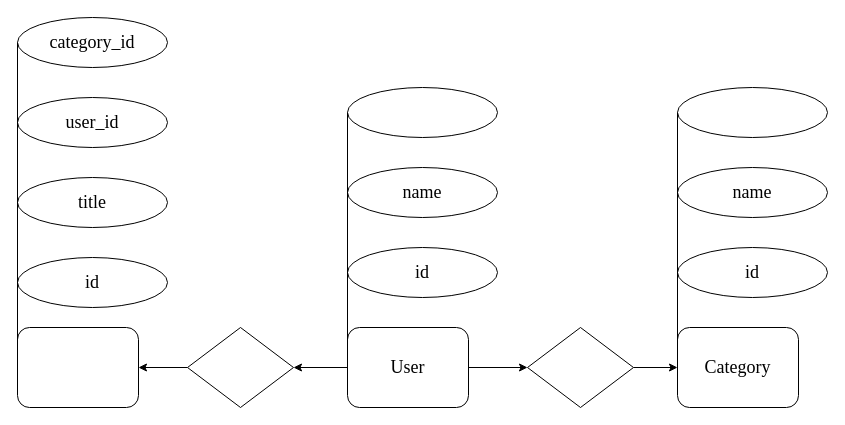
Some shapes in this 845 by 425 pixel diagram are drawn without their labels. The shapes that lost their labels are listed below. From the top down, each one's centre as x and y in pixels, then its label:
At (422,112): "email".
At (752,112): "color".
At (77,367): "Task".
At (240,367): "sets".
At (580,367): "creates".
